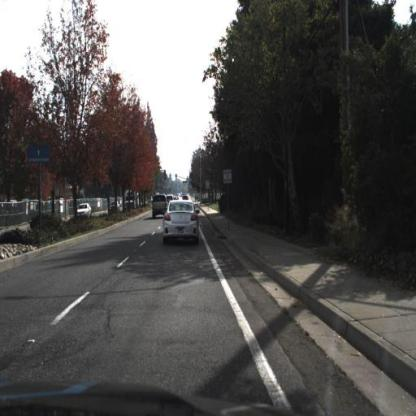car: (160, 194, 204, 249), (152, 193, 169, 219), (73, 201, 92, 220), (109, 199, 121, 213), (183, 192, 192, 205), (165, 193, 172, 208)
truck: (122, 187, 140, 211)
